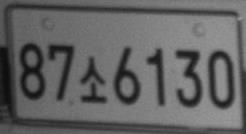0: (207, 50, 235, 109)
1: (145, 48, 172, 105)
3: (175, 49, 203, 108)
6: (112, 46, 141, 104)
7: (47, 44, 74, 101)
8: (18, 41, 45, 100)
소: (78, 56, 107, 102)
